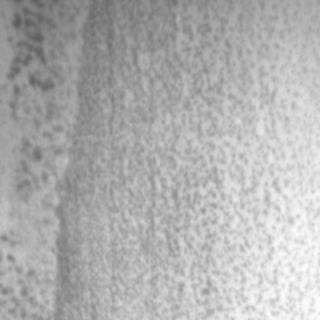pitted_surface: (59, 1, 318, 316), (0, 1, 76, 316)
